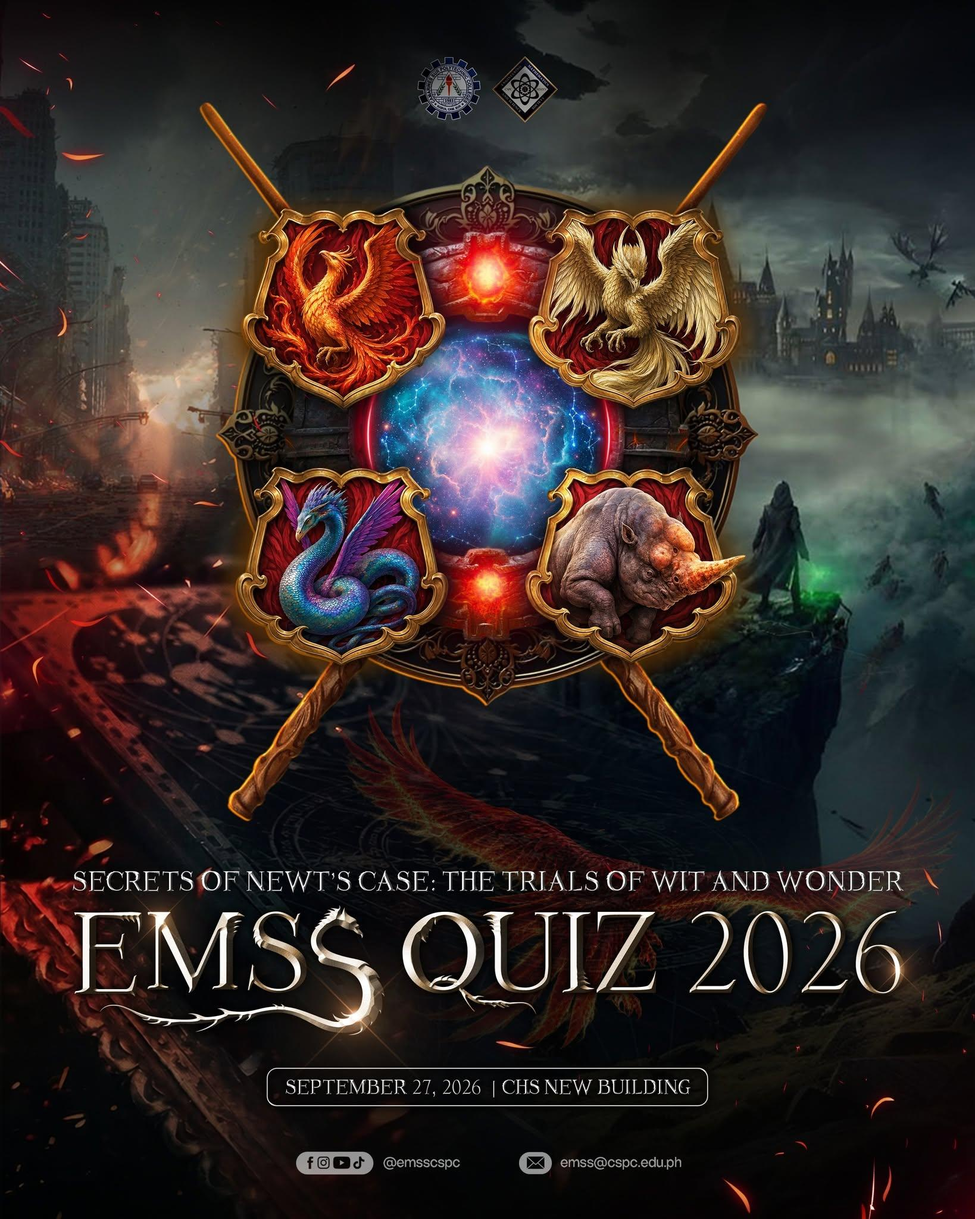embellishment: (195, 95, 776, 827), (317, 984, 388, 1059), (869, 940, 925, 1005), (860, 1156, 898, 1219), (719, 1170, 757, 1218), (133, 575, 169, 617), (865, 1089, 901, 1123), (493, 1032, 540, 1058), (305, 1154, 367, 1171), (920, 862, 942, 894), (525, 1154, 546, 1172), (932, 918, 945, 947), (180, 569, 196, 591), (210, 552, 227, 572)
logo: (489, 50, 561, 126), (413, 54, 485, 125)
text: (62, 902, 917, 1038), (68, 865, 908, 896), (283, 1075, 694, 1097), (558, 1155, 687, 1174), (379, 1152, 463, 1172)
underlay: (266, 1065, 710, 1109), (297, 1151, 373, 1175), (520, 1152, 552, 1174)
